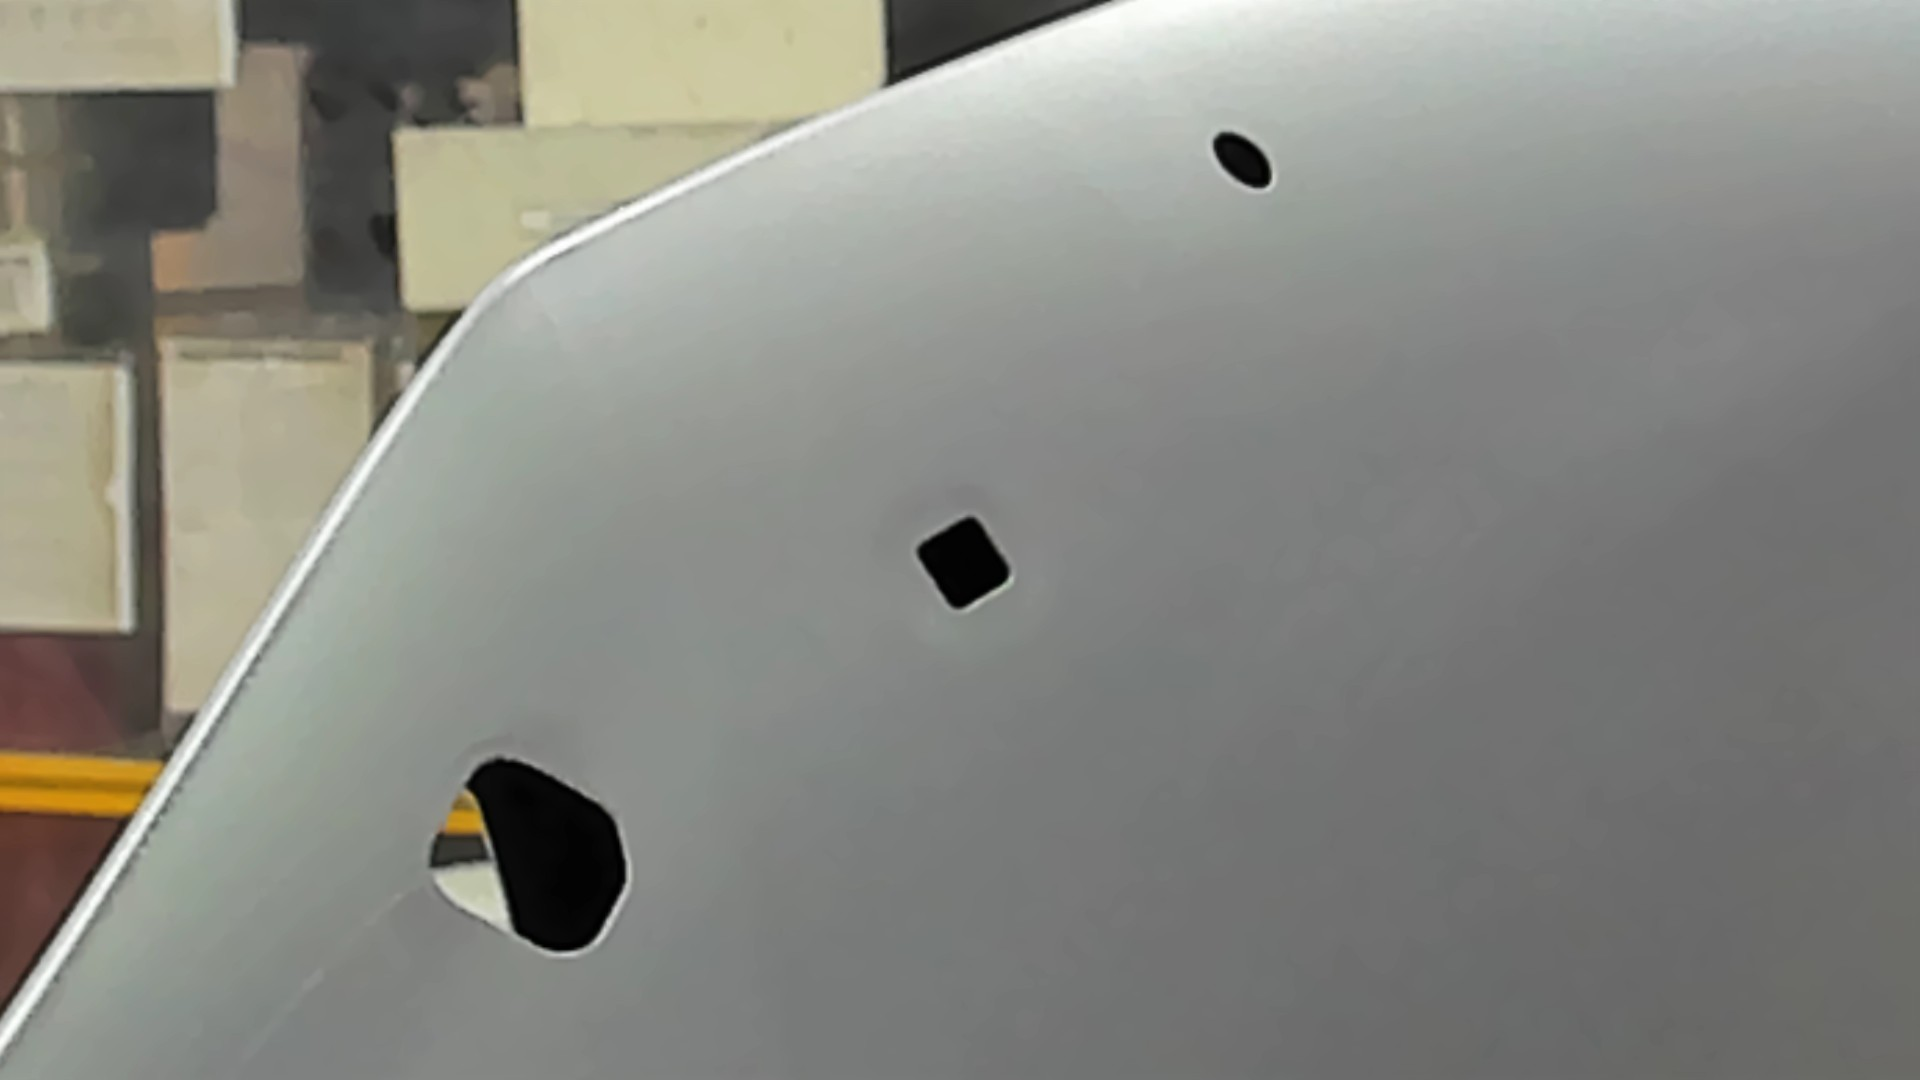chico: (1208, 127, 1278, 196)
grande: (425, 749, 637, 967)
mediano: (907, 508, 1018, 622)
